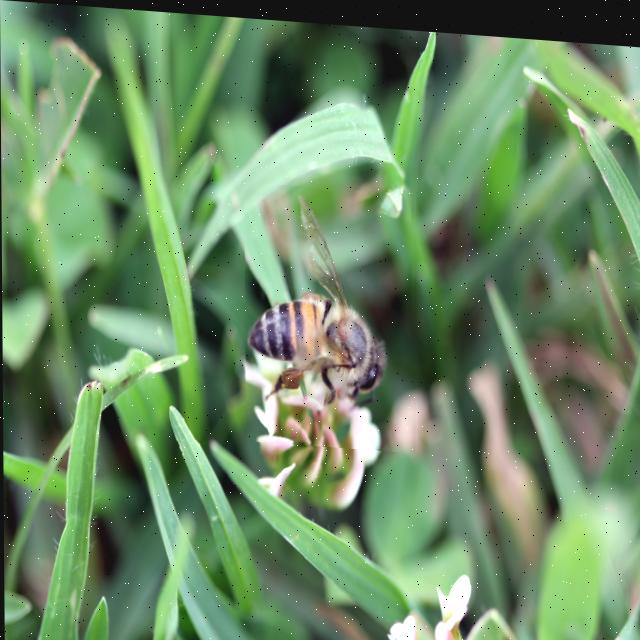Apis-mellifera-scutellata: (244, 178, 416, 447)
